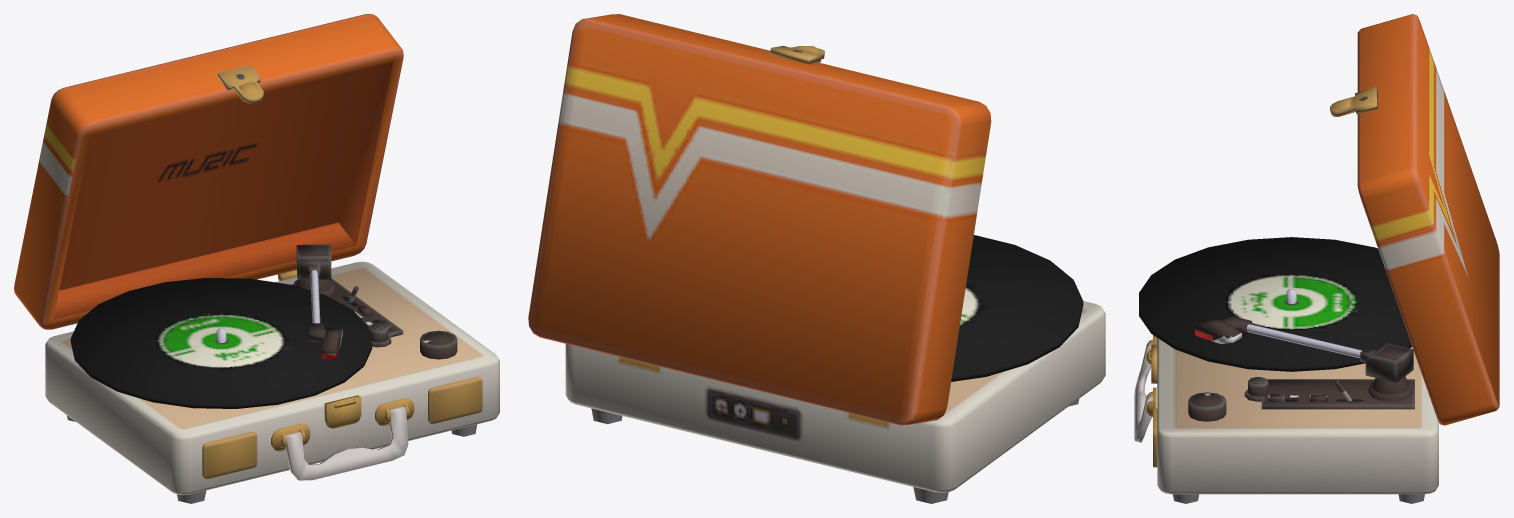
Rendered from turntable.gltf.
3 views of the same model, side by side, from view 1: azimuth 30°, elevation 25°; view 2: azimuth 150°, elevation 25°; view 3: azimuth 270°, elevation 25° (orthographic). The views are drawn at different scales.
Parts seen in each view (by area): view 1: ballJoint_low__mReBody; view 2: ballJoint_low__mReBody; view 3: ballJoint_low__mReBody.
Boxes of the visible parts, left/top/right/bottom form: ballJoint_low__mReBody: left=14, top=14, right=499, bottom=503; ballJoint_low__mReBody: left=528, top=14, right=1105, bottom=503; ballJoint_low__mReBody: left=1134, top=14, right=1499, bottom=503.
Size of the model in its own units: 7.36 by 6.7 by 6.54.
Materials: 1 (1 with a texture image).
